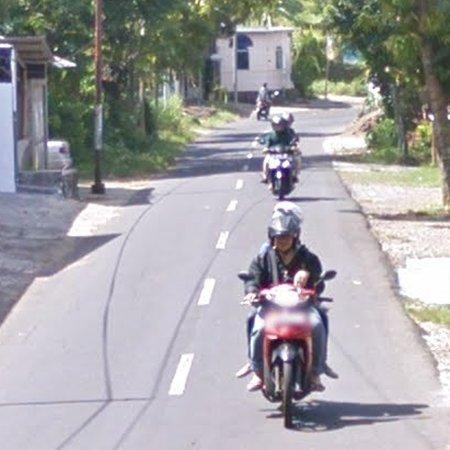motorcycles: (260, 285, 317, 428)
